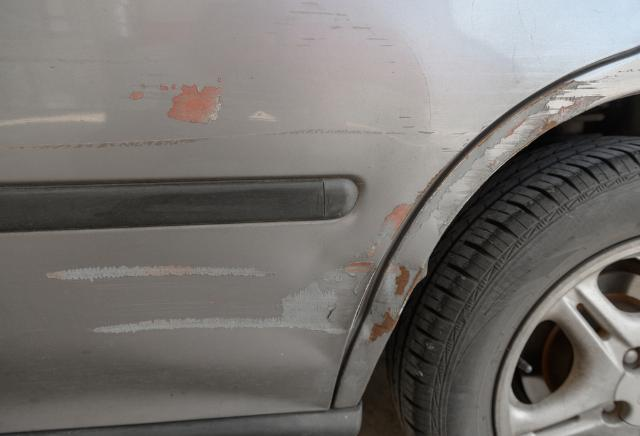scratch: (354, 63, 640, 347), (39, 201, 414, 338), (0, 76, 474, 155), (285, 0, 408, 70)
